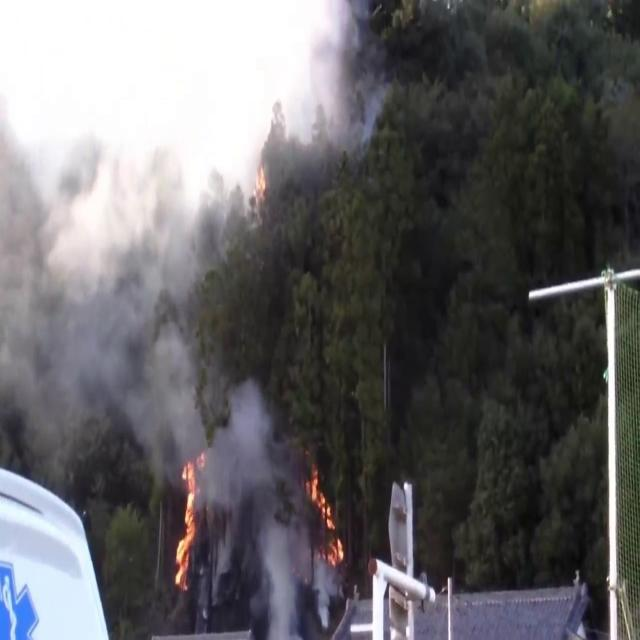Fire: (170, 450, 206, 594), (306, 464, 346, 576)
Smoke: (0, 62, 228, 483), (188, 0, 382, 203), (206, 360, 316, 636)
